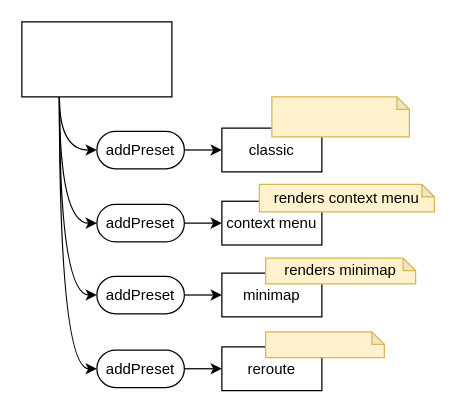
Image size: 456x413. Some labels were removed from this diagram. Each missing label, with the centre of its shape:
"ReactPlugin" goes at [96,59].
"renders nodes, connections, etc." goes at [340,116].
"renders pins" goes at [324,344].
